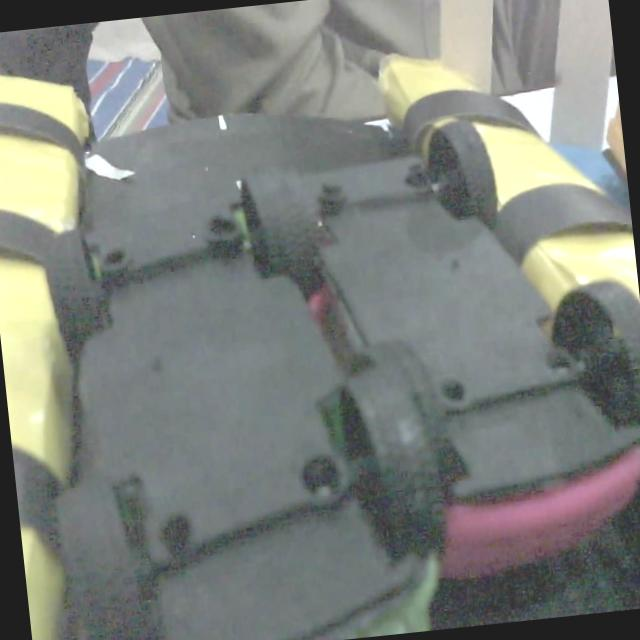Accident: (29, 114, 626, 639)
